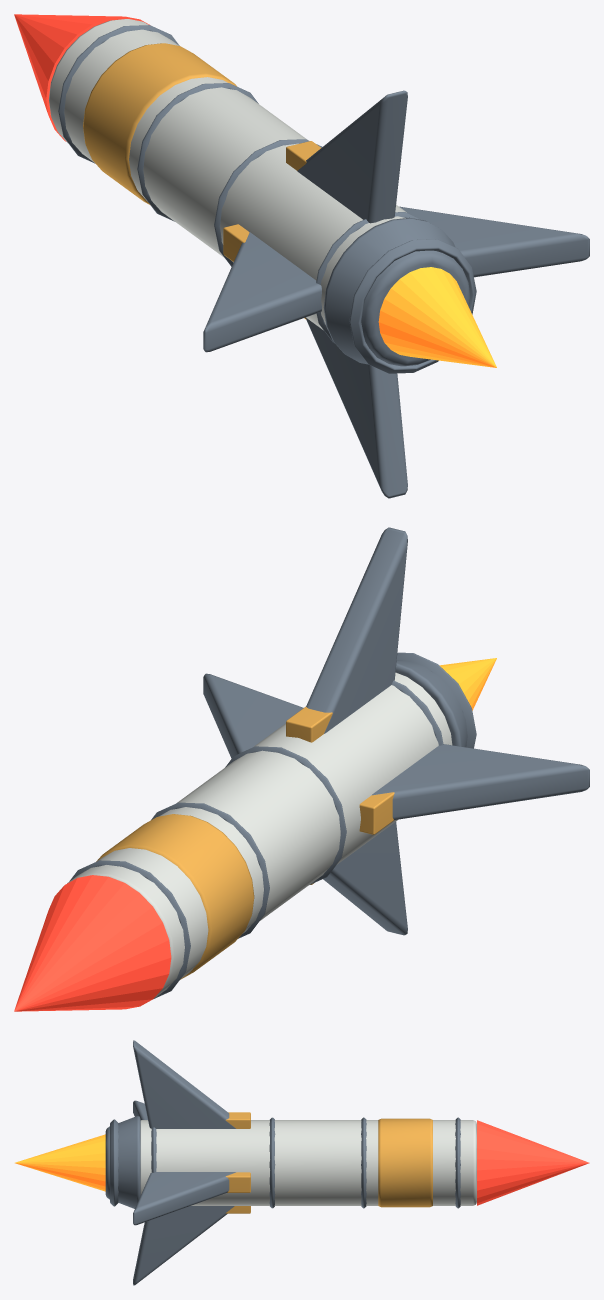
File: missile.glb
3 views of the same model, one above another, from view 1: azimuth 30°, elevation 25°; view 2: azimuth 150°, elevation 25°; view 3: azimuth 270°, elevation 25° (orthographic). The views are drawn at different scales.
Parts seen in each view (by area): view 1: missile; view 2: missile; view 3: missile.
Boxes of the visible parts, x1=… form: missile: x1=14, y1=14, x2=589, y2=498; missile: x1=14, y1=527, x2=589, y2=1011; missile: x1=15, y1=1040, x2=589, y2=1285.
Bounding box in the file's own units: 0.9221 × 0.9221 × 2.
